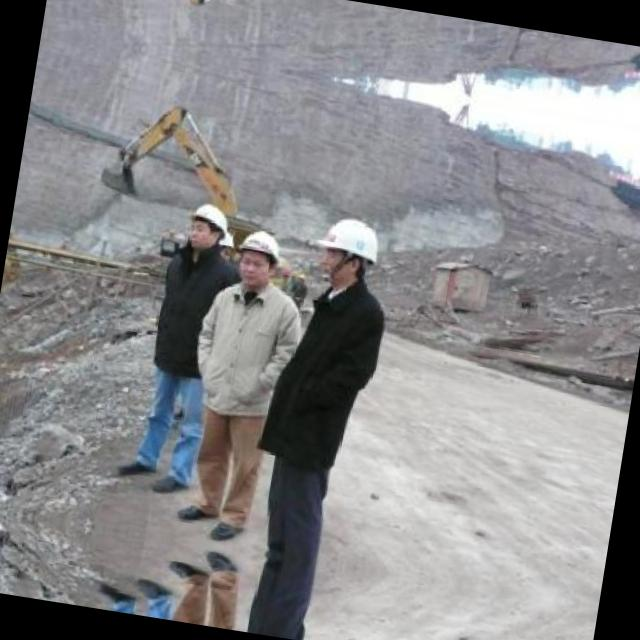helmet: (312, 210, 388, 296), (230, 226, 283, 292), (182, 195, 232, 256)
